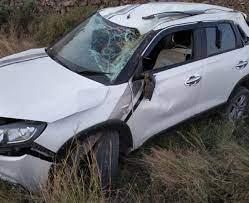Front-Windscreen-Damage: (51, 16, 143, 91)
Headlight-Damage: (1, 110, 48, 161)
doorouter-dent: (134, 76, 204, 152)
roof-dent: (100, 1, 248, 30)
